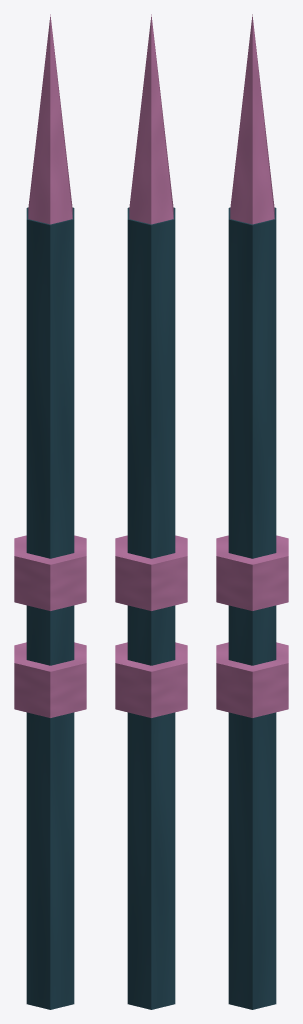
The model's file is atlas100-s061-a05.lod1.glb.
The picture shows the model from 3 angles, left to right: view 1: azimuth 90°, elevation 25°; view 2: azimuth 210°, elevation 25°; view 3: azimuth 270°, elevation 25°; orthographic projection.
Parts seen in each view (by area): view 1: atlas100-s061-a05:part-000, atlas100-s061-a05:part-004, atlas100-s061-a05:part-002, atlas100-s061-a05:part-003; view 2: atlas100-s061-a05:part-000, atlas100-s061-a05:part-004, atlas100-s061-a05:part-002, atlas100-s061-a05:part-003; view 3: atlas100-s061-a05:part-000, atlas100-s061-a05:part-004, atlas100-s061-a05:part-002, atlas100-s061-a05:part-003.
Part boxes in pixels (bbox=[...]): atlas100-s061-a05:part-000: bbox=[26, 207, 74, 1009]; atlas100-s061-a05:part-004: bbox=[28, 14, 72, 224]; atlas100-s061-a05:part-002: bbox=[14, 642, 86, 717]; atlas100-s061-a05:part-003: bbox=[14, 535, 86, 610]; atlas100-s061-a05:part-000: bbox=[127, 207, 175, 1009]; atlas100-s061-a05:part-004: bbox=[129, 14, 173, 224]; atlas100-s061-a05:part-002: bbox=[115, 642, 187, 717]; atlas100-s061-a05:part-003: bbox=[115, 535, 187, 610]; atlas100-s061-a05:part-000: bbox=[228, 207, 276, 1009]; atlas100-s061-a05:part-004: bbox=[230, 14, 274, 224]; atlas100-s061-a05:part-002: bbox=[216, 642, 288, 717]; atlas100-s061-a05:part-003: bbox=[216, 535, 288, 610].
Bounding box in the file's own units: 0.1158 × 1.51 × 0.1002.
2 materials, 2 textured.
